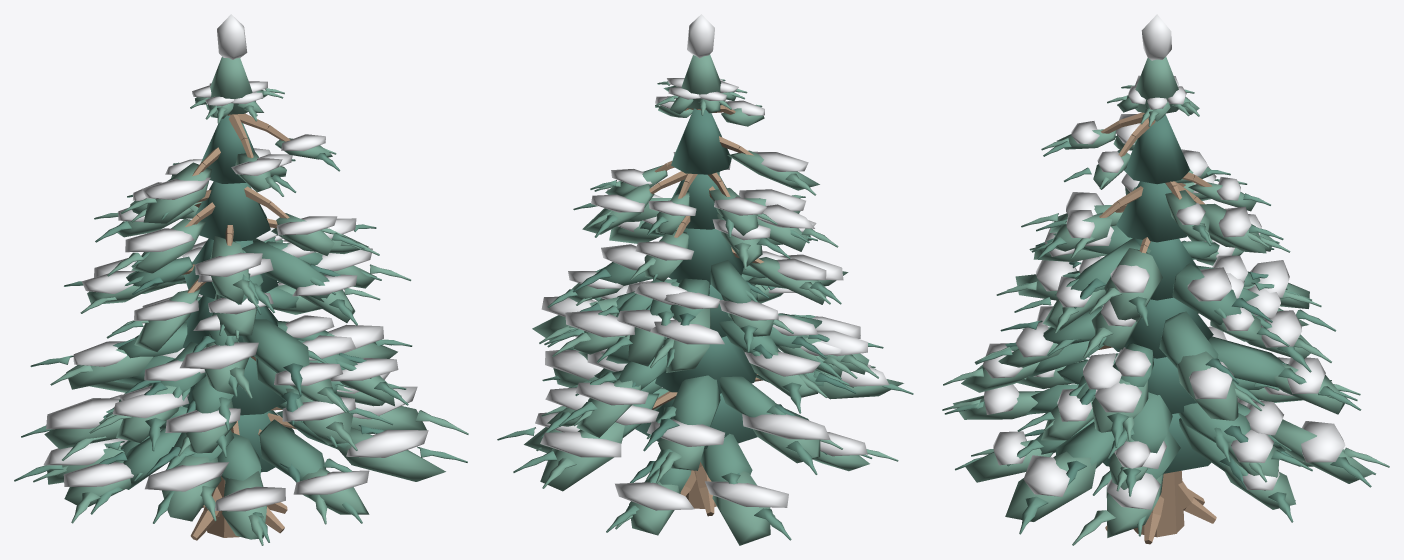
File: Snow_Pine_Small_2.gltf
3 views of the same model, side by side, from view 1: azimuth 30°, elevation 25°; view 2: azimuth 150°, elevation 25°; view 3: azimuth 270°, elevation 25° (orthographic). The views are drawn at different scales.
Parts seen in each view (by area): view 1: Snow_Pine_Small_2; view 2: Snow_Pine_Small_2; view 3: Snow_Pine_Small_2.
Boxes of the visible parts, x1=… form: Snow_Pine_Small_2: x1=14, y1=14, x2=468, y2=545; Snow_Pine_Small_2: x1=497, y1=14, x2=913, y2=545; Snow_Pine_Small_2: x1=942, y1=14, x2=1389, y2=545.
Bounding box in the file's own units: 2.57 × 3.31 × 2.63.
